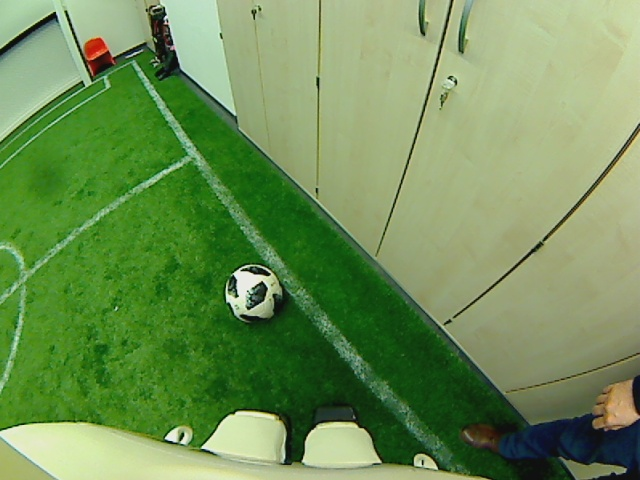ball: (225, 260, 283, 323)
